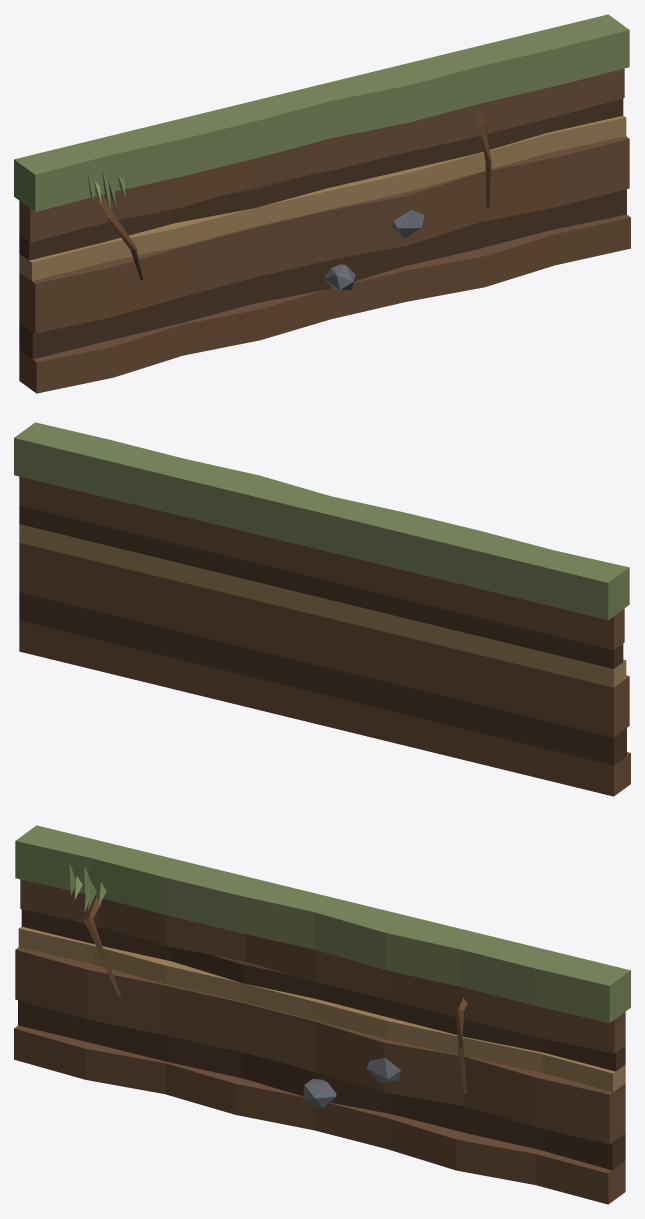
The model's file is Board Edge Side.fbx.
3 renders of one model, top to bottom at view 1: azimuth 30°, elevation 25°; view 2: azimuth 150°, elevation 25°; view 3: azimuth 330°, elevation 25°, orthographic.
Visible parts, largest first — view 1: Board Edge Side; view 2: Board Edge Side; view 3: Board Edge Side.
Part boxes in pixels (x1,y1,x2,y2): Board Edge Side: (14, 14, 630, 393); Board Edge Side: (14, 422, 630, 796); Board Edge Side: (14, 825, 630, 1204).
Bounding box in the file's own units: 1 × 0.35 × 0.089.
